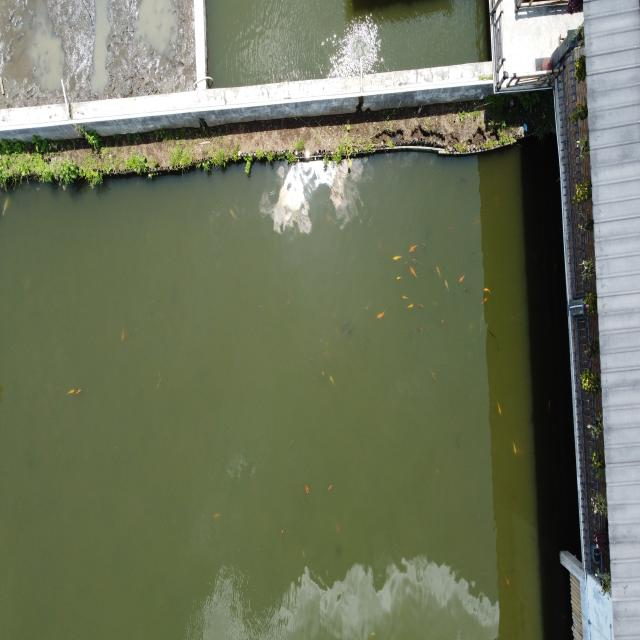Ponds: (1, 76, 598, 640), (201, 1, 502, 108)
